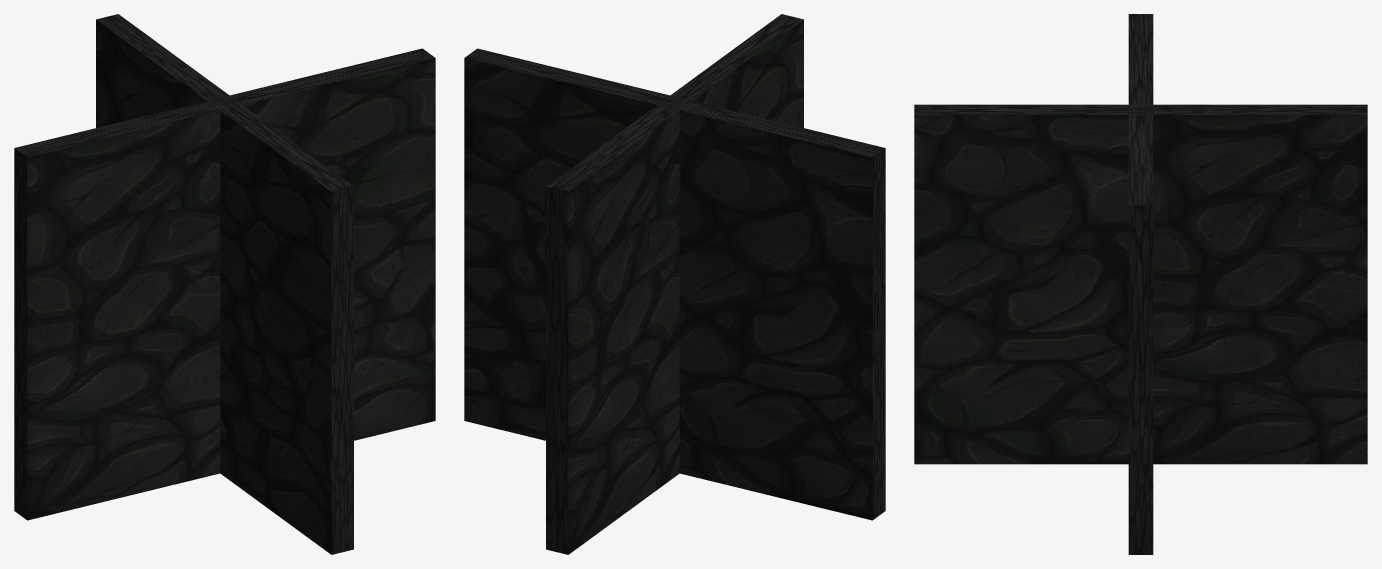
File: stone_junction_x.glb
The picture shows the model from 3 angles, left to right: view 1: azimuth 30°, elevation 25°; view 2: azimuth 150°, elevation 25°; view 3: azimuth 270°, elevation 25°; orthographic projection. The views are drawn at different scales.
Visible parts, largest first — view 1: stone_junction_x, _MeshInstance3D_2519; view 2: stone_junction_x, _MeshInstance3D_2519; view 3: _MeshInstance3D_2519, stone_junction_x.
Boxes of the visible parts, box(x1,y1,x2,y2) form: stone_junction_x: box(14, 48, 435, 520); _MeshInstance3D_2519: box(96, 14, 353, 554); stone_junction_x: box(464, 48, 885, 520); _MeshInstance3D_2519: box(546, 14, 803, 554); _MeshInstance3D_2519: box(914, 104, 1367, 464); stone_junction_x: box(1128, 14, 1153, 554).
Bounding box in the file's own units: 4 × 3.4 × 4.
1 material, 1 textured.
